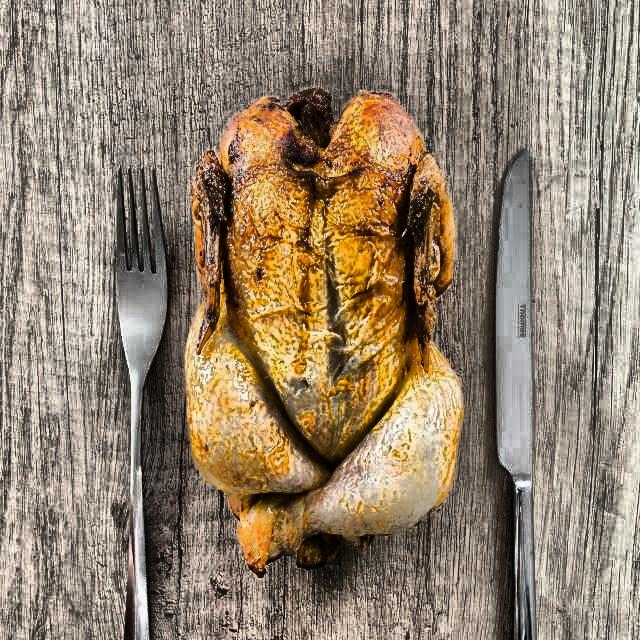knife: (495, 153, 561, 640)
